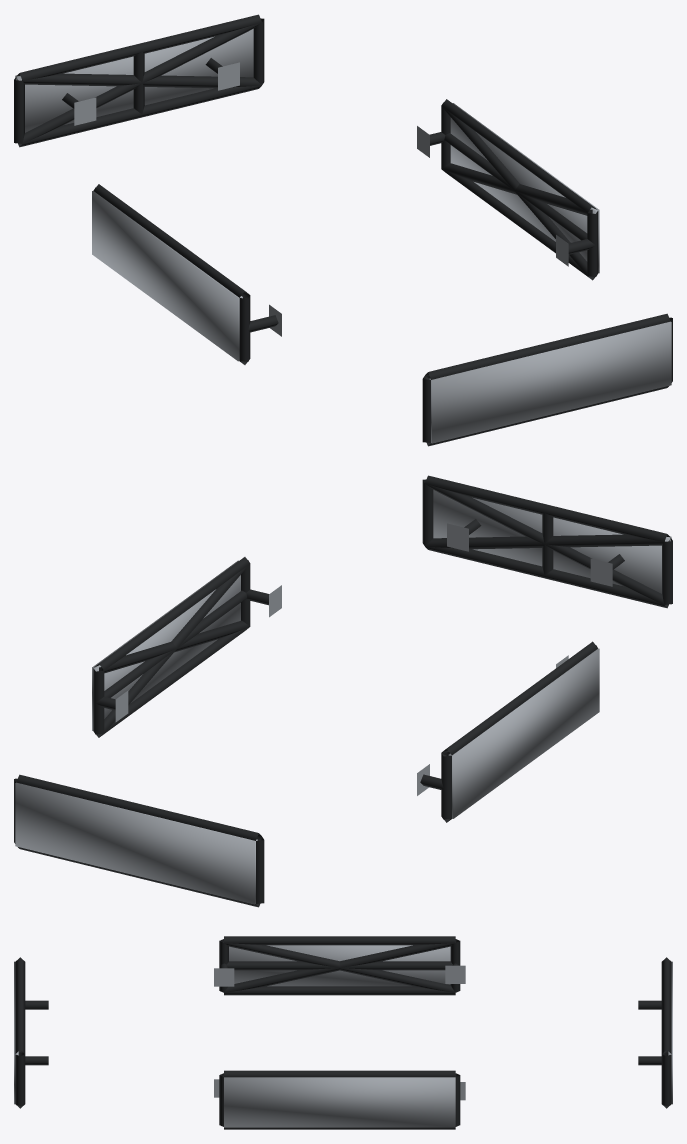
The model's file is hozuki_bico_protecao.glb.
3 views of the same model, one above another, from view 1: azimuth 30°, elevation 25°; view 2: azimuth 150°, elevation 25°; view 3: azimuth 270°, elevation 25° (orthographic). The views are drawn at different scales.
Visible parts, largest first — view 1: Protection_front_Level3_Details, Protection_left_Level3_Details, Protection_rear_Level1_Details, Protection_rear_Level3_Details, Protection_right_Level1_Details, Protection_rear_Level2_Details, Protection_right_Level2_Details, Protection_right_Level3_Details, Protection_front_Level1_Details, Protection_left_Level1_Details; view 2: Protection_rear_Level3_Details, Protection_left_Level3_Details, Protection_front_Level1_Details, Protection_front_Level3_Details, Protection_right_Level1_Details, Protection_front_Level2_Details, Protection_right_Level2_Details, Protection_right_Level3_Details, Protection_rear_Level1_Details, Protection_left_Level1_Details; view 3: Protection_right_Level3_Details, Protection_left_Level1_Details, Protection_left_Level2_Details, Protection_left_Level3_Details, Protection_right_Level1_Details, Protection_rear_Level1_Details, Protection_front_Level1_Details.
Boxes of the visible parts, box(x1,y1,x2,y2) form: Protection_front_Level3_Details: box(429, 321, 671, 443); Protection_left_Level3_Details: box(92, 191, 242, 361); Protection_rear_Level1_Details: box(14, 14, 264, 147); Protection_rear_Level3_Details: box(15, 29, 253, 132); Protection_right_Level1_Details: box(417, 99, 598, 280); Protection_rear_Level2_Details: box(16, 22, 261, 145); Protection_right_Level2_Details: box(441, 107, 597, 279); Protection_right_Level3_Details: box(450, 103, 599, 273); Protection_front_Level1_Details: box(422, 313, 672, 446); Protection_left_Level1_Details: box(93, 184, 281, 364); Protection_rear_Level3_Details: box(15, 782, 257, 904); Protection_left_Level3_Details: box(448, 648, 599, 818); Protection_front_Level1_Details: box(422, 475, 672, 608); Protection_front_Level3_Details: box(433, 490, 671, 593); Protection_right_Level1_Details: box(93, 557, 281, 737); Protection_front_Level2_Details: box(425, 483, 670, 606); Protection_right_Level2_Details: box(94, 564, 249, 737); Protection_right_Level3_Details: box(92, 560, 240, 730); Protection_rear_Level1_Details: box(14, 774, 264, 907); Protection_left_Level1_Details: box(417, 641, 597, 822); Protection_right_Level3_Details: box(224, 1077, 455, 1127); Protection_left_Level1_Details: box(214, 936, 465, 995); Protection_left_Level2_Details: box(223, 941, 455, 992); Protection_left_Level3_Details: box(229, 945, 450, 986); Protection_right_Level1_Details: box(214, 1070, 465, 1129); Protection_rear_Level1_Details: box(638, 957, 671, 1108); Protection_front_Level1_Details: box(15, 957, 48, 1108).
Bounding box in the file's own units: 1.8 × 0.354 × 3.59.
Materials: 1 (1 with a texture image).
